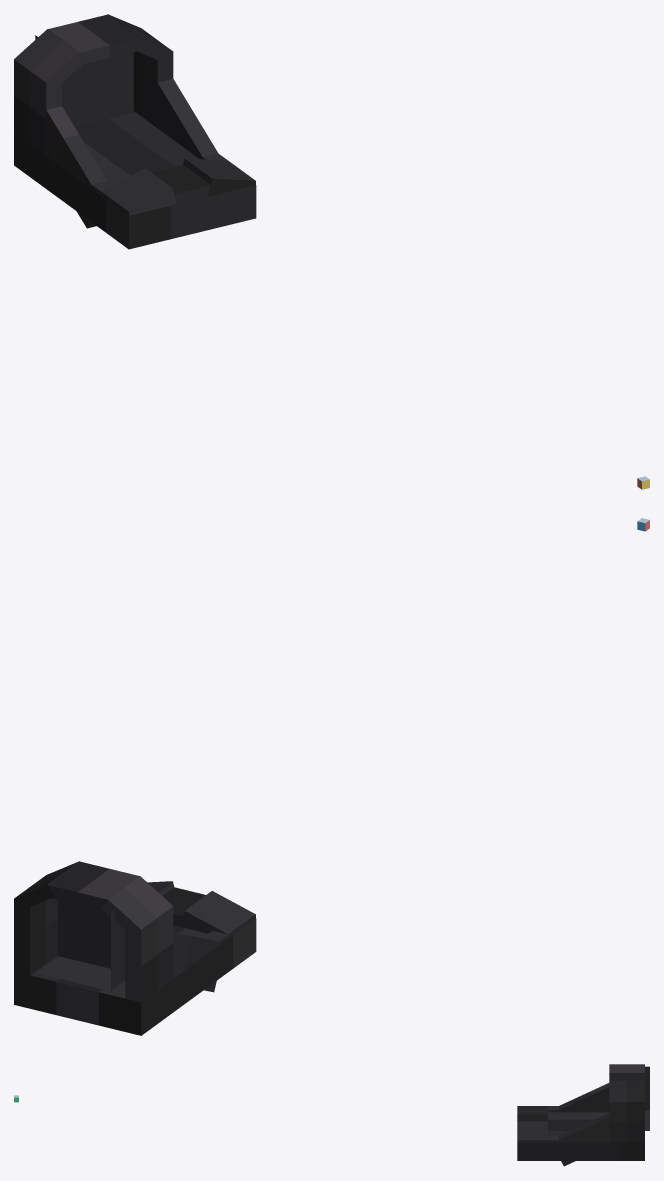
The model's file is moa hg.obj.
3 renders of one model, top to bottom at view 1: azimuth 30°, elevation 25°; view 2: azimuth 150°, elevation 25°; view 3: azimuth 270°, elevation 25°, orthographic. The views are drawn at different scales.
Visible parts, largest first — view 1: sight_13, reticle_1; view 2: sight_13, reticle_1; view 3: sight_13, reticle_1.
Part boxes in pixels (left/top/right/bottom): sight_13: left=14, top=14, right=256, bottom=249; reticle_1: left=35, top=35, right=133, bottom=126; sight_13: left=14, top=861, right=256, bottom=1035; reticle_1: left=35, top=900, right=125, bottom=991; sight_13: left=517, top=1064, right=644, bottom=1166; reticle_1: left=645, top=1066, right=649, bottom=1130.
Size of the model in its own units: 0.2002 by 0.2225 by 1.56.
